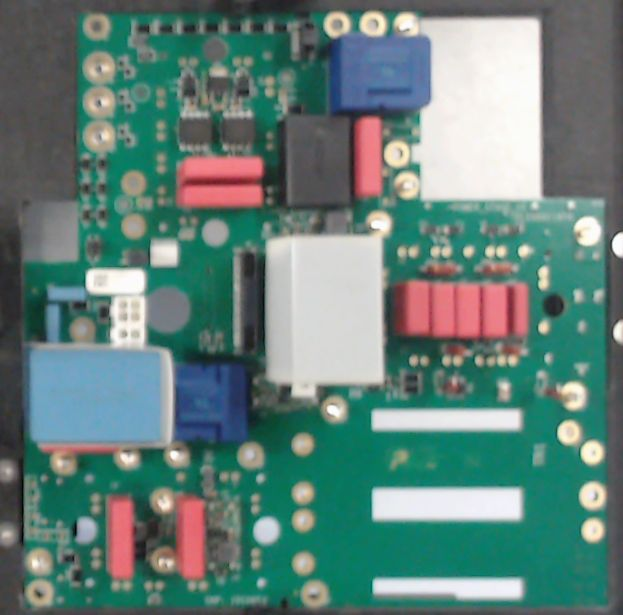comp1: (331, 33, 432, 112), (173, 364, 249, 444)
comp2: (176, 495, 206, 581), (178, 153, 263, 183), (106, 496, 134, 582), (354, 116, 380, 199), (178, 184, 266, 208), (397, 278, 430, 341), (428, 277, 455, 343), (480, 281, 510, 340), (456, 281, 480, 341), (511, 281, 528, 343)
comp3: (280, 113, 351, 206)
comp4: (266, 235, 384, 386), (28, 339, 173, 450)
